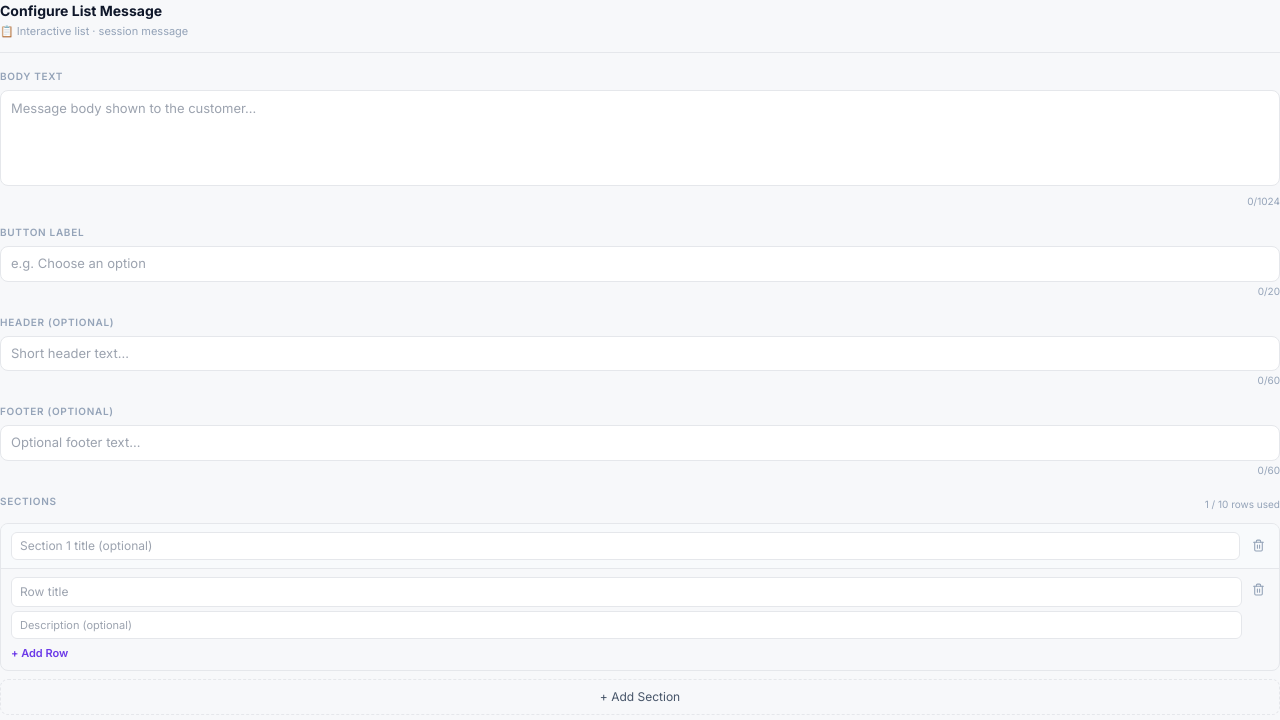
ListMessageForm › Apply button is enabled when body, buttonText, and one row title are filled
The image size is (1280, 720).
Type "Pick a plan" into the text box with placeholder "Message body shown to the customer…" at (640, 138), box [0,90,1279,186]
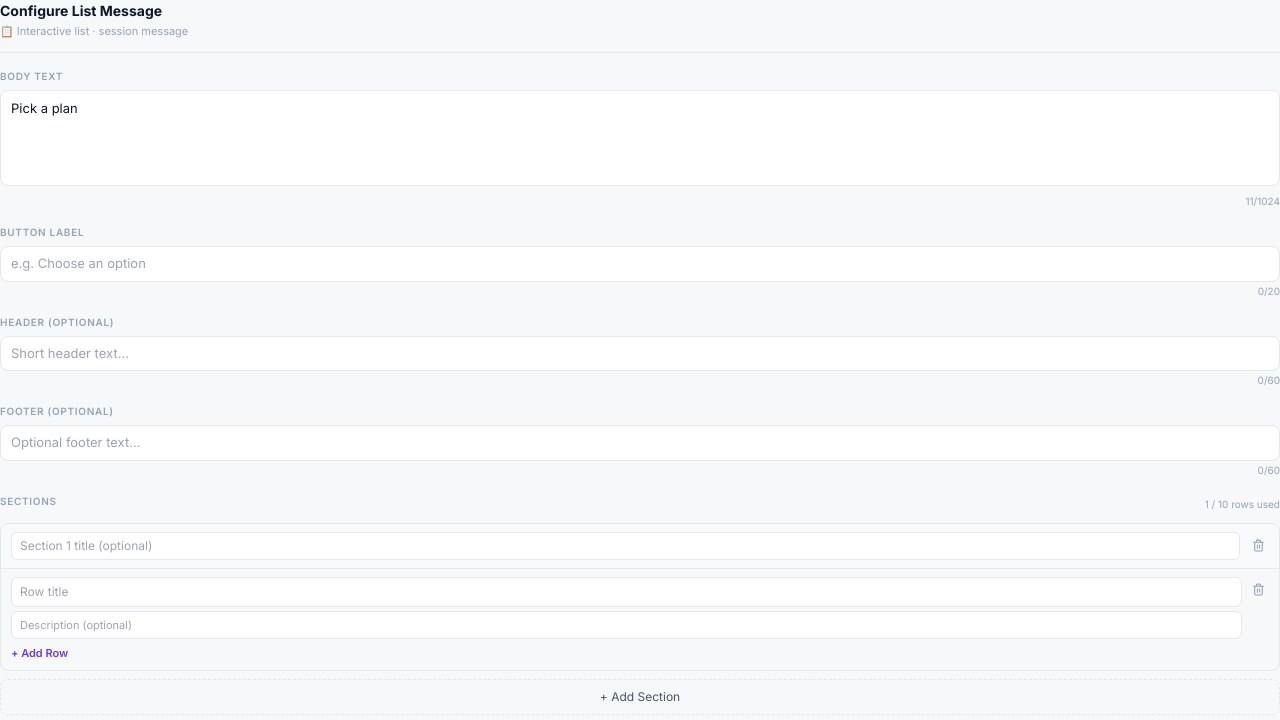
Type "View" into the field with placeholder "e.g. Choose an option" at (640, 264), box [0,246,1279,282]
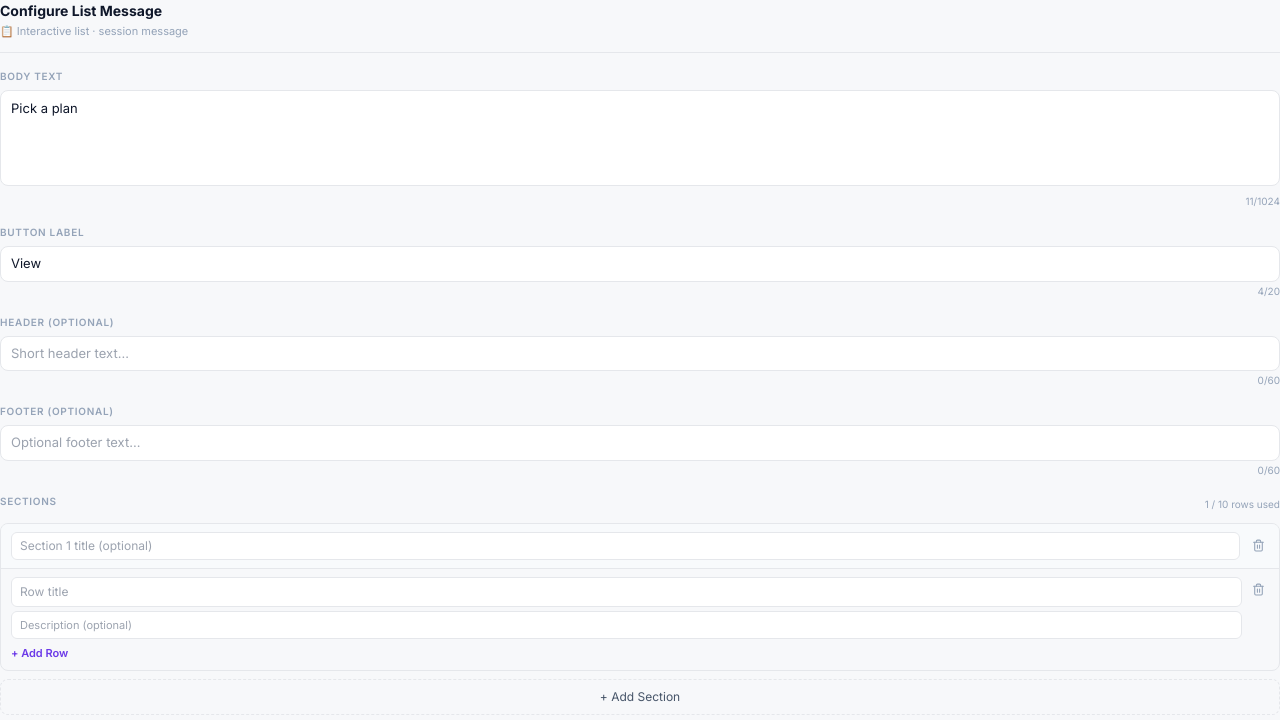
Type "Option A" into the field with placeholder "Row title" at (626, 592), box [11,577,1242,607]
(page scrolled)
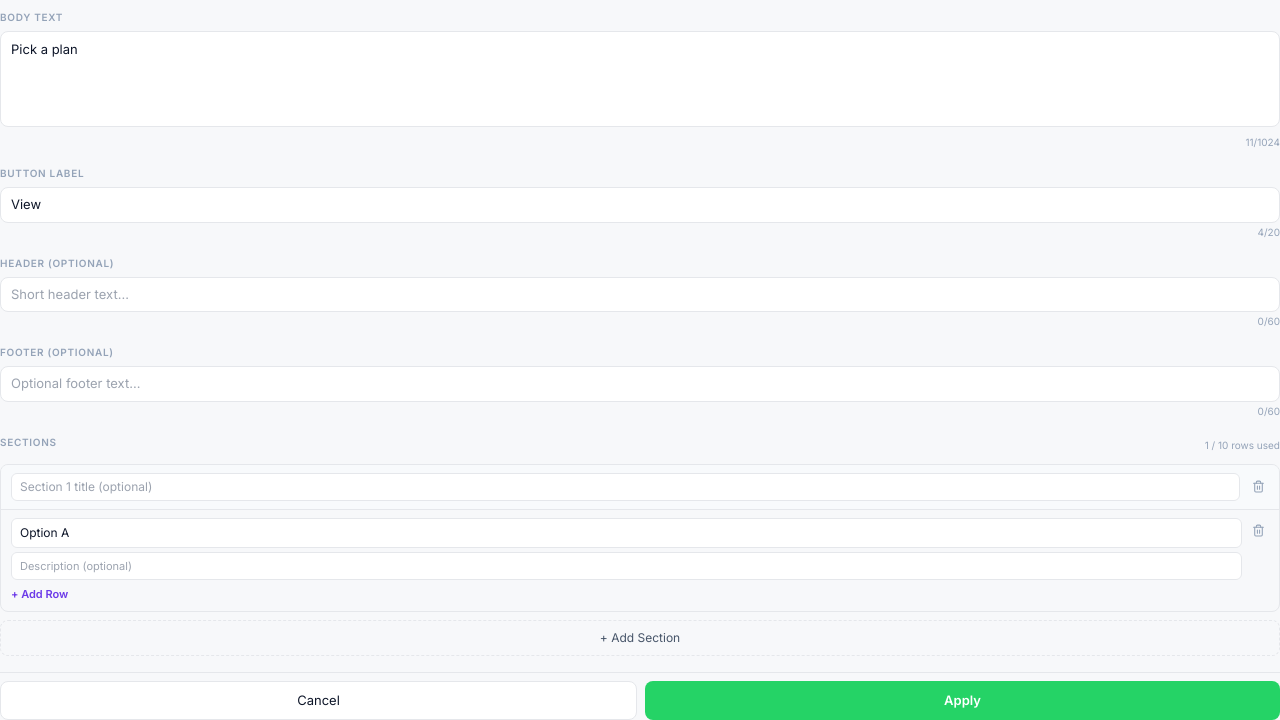
Now the button "Apply" is enabled, box [645,681,1279,719]
